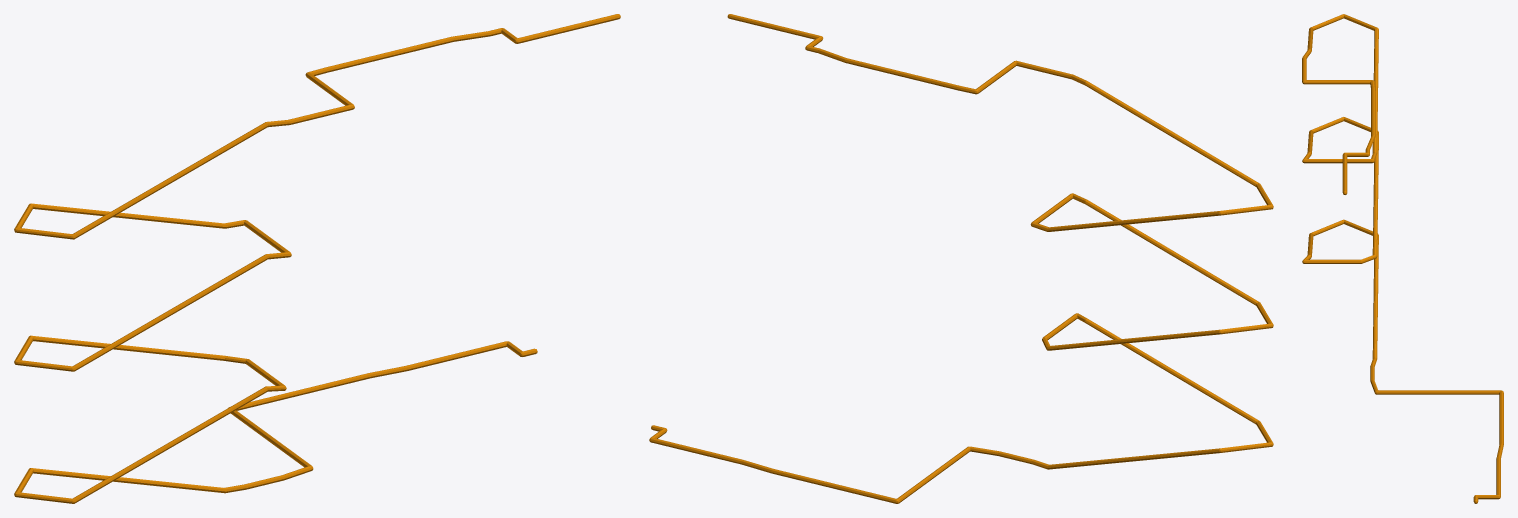
3 renders of one model, left to right at view 1: azimuth 30°, elevation 25°; view 2: azimuth 150°, elevation 25°; view 3: azimuth 270°, elevation 25°, orthographic. The views are drawn at different scales.
Size of the model in its own units: 2406 by 1520 by 889.
